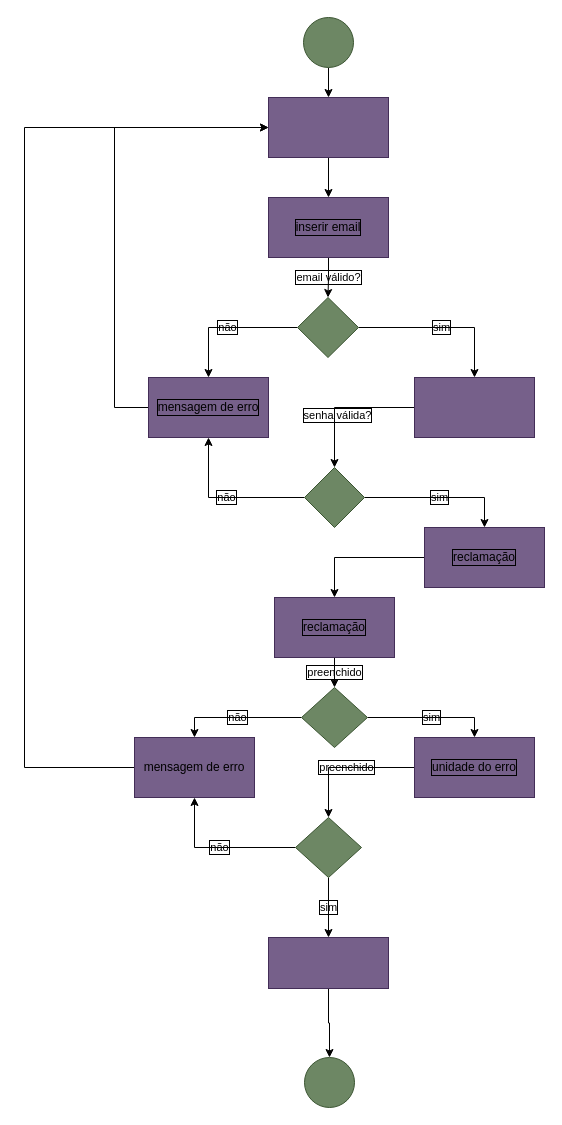
Image size: 562x1125. Some labels were removed from this diagram. The shapes that lost their labels are listed below. From the top down, each one's box as (x1, y1, x2, y2) in pixels, then its label:
(268, 96, 388, 158): tela inicial cadastro
(414, 376, 534, 438): inserir senha
(268, 936, 388, 988): gravar sucesso
